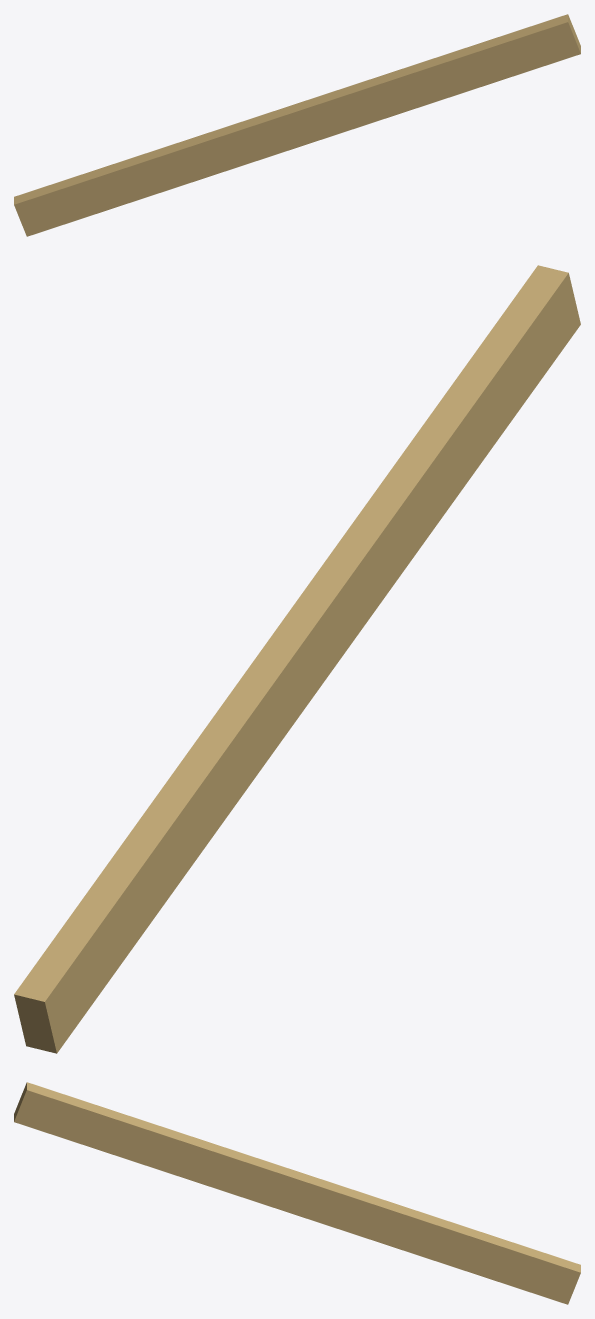
The picture shows the model from 3 angles, top to bottom: view 1: azimuth 90°, elevation 25°; view 2: azimuth 150°, elevation 25°; view 3: azimuth 270°, elevation 25°; orthographic projection. The views are drawn at different scales.
Parts seen in each view (by area): view 1: L1-3-S14-32A-M02; view 2: L1-3-S14-32A-M02; view 3: L1-3-S14-32A-M02.
Boxes of the visible parts, x1=… form: L1-3-S14-32A-M02: x1=14, y1=14, x2=580, y2=236; L1-3-S14-32A-M02: x1=14, y1=265, x2=580, y2=1053; L1-3-S14-32A-M02: x1=14, y1=1082, x2=580, y2=1304.
Bounding box in the file's own units: 0.045 × 0.5665 × 1.35.
